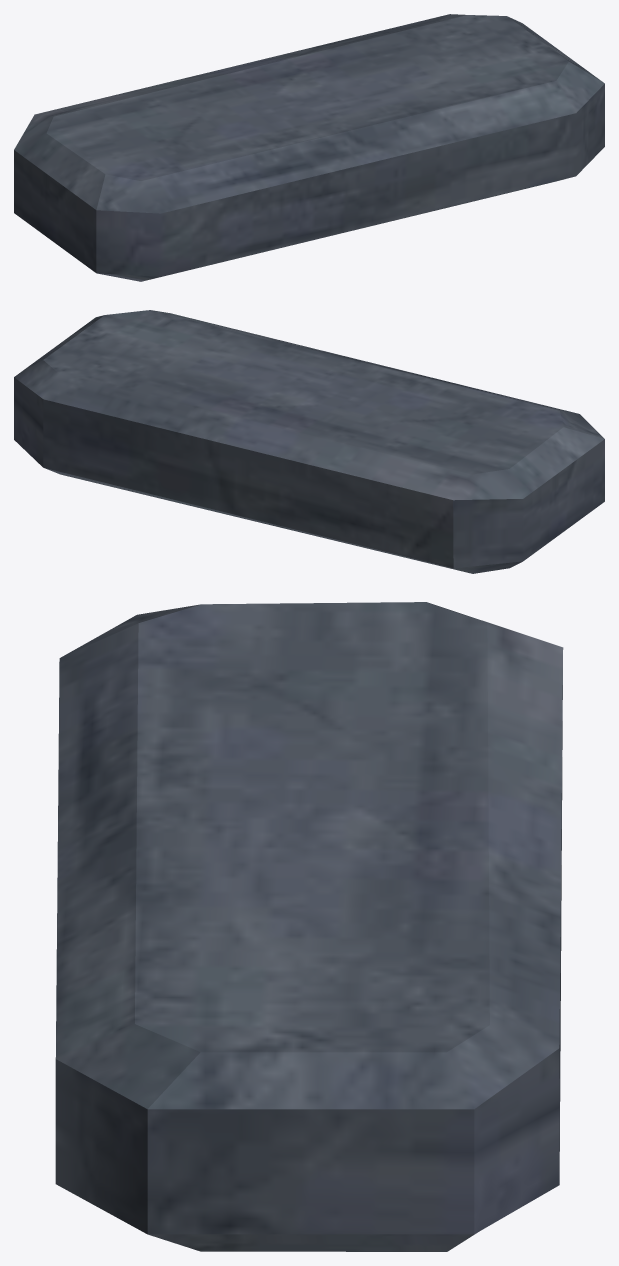
Rendered from stand-brick01.glb.
The picture shows the model from 3 angles, top to bottom: view 1: azimuth 30°, elevation 25°; view 2: azimuth 150°, elevation 25°; view 3: azimuth 270°, elevation 25°; orthographic projection. The views are drawn at different scales.
Parts seen in each view (by area): view 1: StandBrick01; view 2: StandBrick01; view 3: StandBrick01.
Part boxes in pixels (box(x1,y1,x2,y2)): StandBrick01: box(14, 14, 604, 281); StandBrick01: box(14, 310, 604, 573); StandBrick01: box(55, 602, 563, 1251).
Size of what is drawn, in the model's own units: 2.05 by 0.385 by 0.8875.
1 material, 1 textured.
